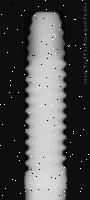BioHorizons: (23, 11, 66, 200)
